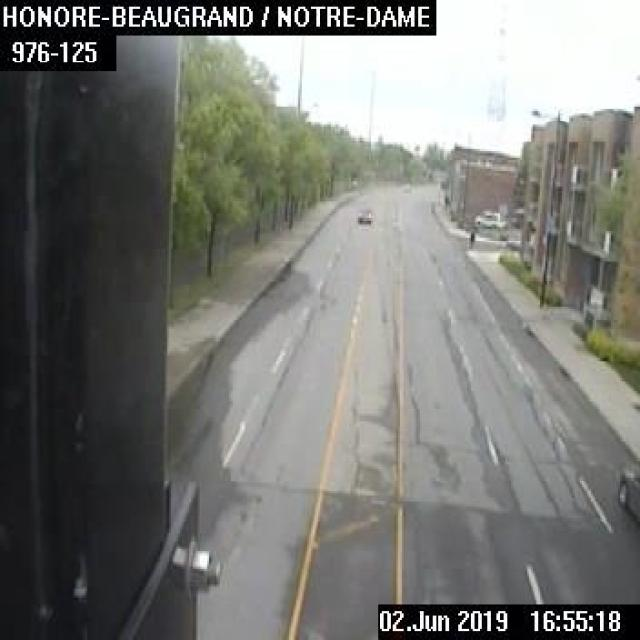pedestrian: (468, 228, 473, 248)
vehicle: (613, 458, 638, 529), (472, 209, 507, 228), (354, 209, 371, 222)
